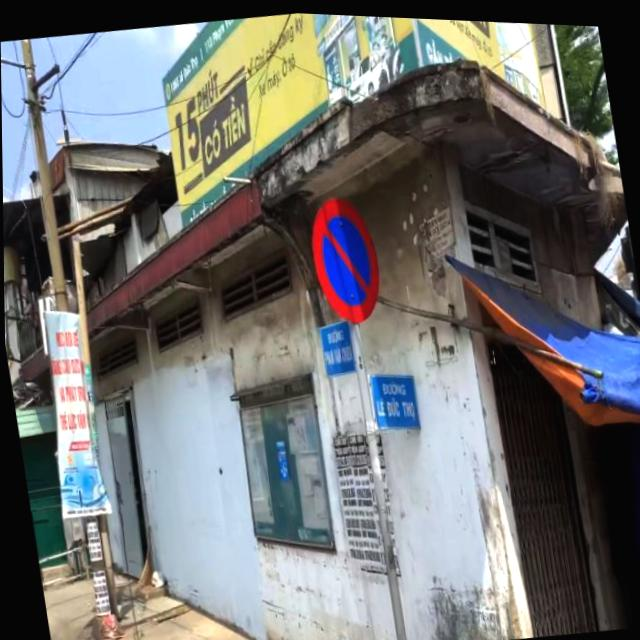Cam do xe: (302, 183, 389, 333)
